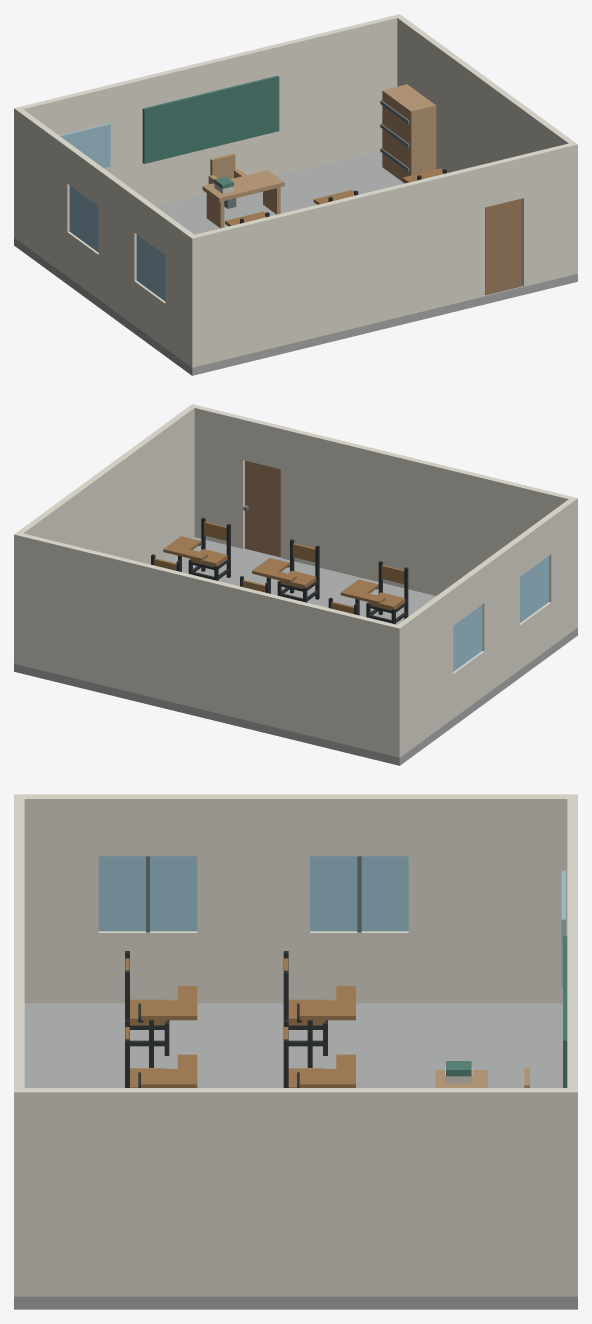
Rendered from Classroom_LowPoly_Furnished.glb.
3 renders of one model, top to bottom at view 1: azimuth 30°, elevation 25°; view 2: azimuth 150°, elevation 25°; view 3: azimuth 270°, elevation 25°, orthographic. The views are drawn at different scales.
Visible parts, largest first — view 1: Front_Wall_Left, Back_Wall, Right_Wall, Floor, Left_Wall_Sill, Chalkboard, Left_Wall_Header, Front_Wall_Right, Detail_Bookcase, Door, Left_Wall_Pier_Rear, Left_Wall_Pier_Middle (+8 smaller); view 2: Back_Wall, Front_Wall_Left, Right_Wall, Floor, Left_Wall_Sill, Left_Wall_Header, Front_Wall_Right, Door, Left_Wall_Pier_Rear, Left_Wall_Pier_Middle, Door_Header, Left_Wall_Pier_Front (+5 smaller); view 3: Right_Wall, Floor, Left_Wall_Sill, Left_Wall_Header, Left_Wall_Pier_Rear, Left_Wall_Pier_Middle, Window_Glass_Front, Window_Glass_Rear, Left_Wall_Pier_Front, Back_Wall, Front_Wall_Right, Front_Wall_Left (+5 smaller).
Boxes of the visible parts, x1,y1,x2,y2 form: Front_Wall_Left: [189, 164, 485, 367]; Back_Wall: [15, 14, 401, 205]; Right_Wall: [394, 14, 577, 274]; Floor: [14, 151, 577, 375]; Left_Wall_Sill: [14, 193, 197, 367]; Chalkboard: [142, 75, 279, 163]; Left_Wall_Header: [14, 107, 197, 274]; Front_Wall_Right: [521, 142, 577, 286]; Detail_Bookcase: [382, 84, 436, 183]; Door: [485, 198, 521, 295]; Left_Wall_Pier_Rear: [14, 145, 69, 231]; Left_Wall_Pier_Middle: [98, 207, 136, 280]; Back_Wall: [14, 532, 402, 757]; Front_Wall_Left: [281, 427, 577, 595]; Right_Wall: [14, 404, 196, 664]; Floor: [14, 537, 577, 765]; Left_Wall_Sill: [394, 583, 577, 757]; Left_Wall_Header: [394, 498, 577, 664]; Front_Wall_Right: [189, 404, 245, 548]; Door: [245, 460, 281, 557]; Left_Wall_Pier_Rear: [394, 626, 453, 712]; Left_Wall_Pier_Middle: [482, 577, 519, 651]; Door_Header: [243, 417, 284, 469]; Left_Wall_Pier_Front: [549, 535, 577, 602]; Right_Wall: [14, 1088, 577, 1296]; Floor: [14, 1003, 577, 1309]; Left_Wall_Sill: [24, 931, 567, 1003]; Left_Wall_Header: [14, 794, 577, 856]; Left_Wall_Pier_Rear: [408, 856, 567, 932]; Left_Wall_Pier_Middle: [197, 856, 309, 932]; Window_Glass_Front: [98, 856, 197, 931]; Window_Glass_Rear: [310, 856, 408, 931]; Left_Wall_Pier_Front: [24, 856, 98, 932]; Back_Wall: [567, 794, 577, 1296]; Front_Wall_Right: [14, 1050, 24, 1296]; Front_Wall_Left: [14, 794, 24, 1020].
Bounding box in the file's own units: 10 × 3.4 × 8.
